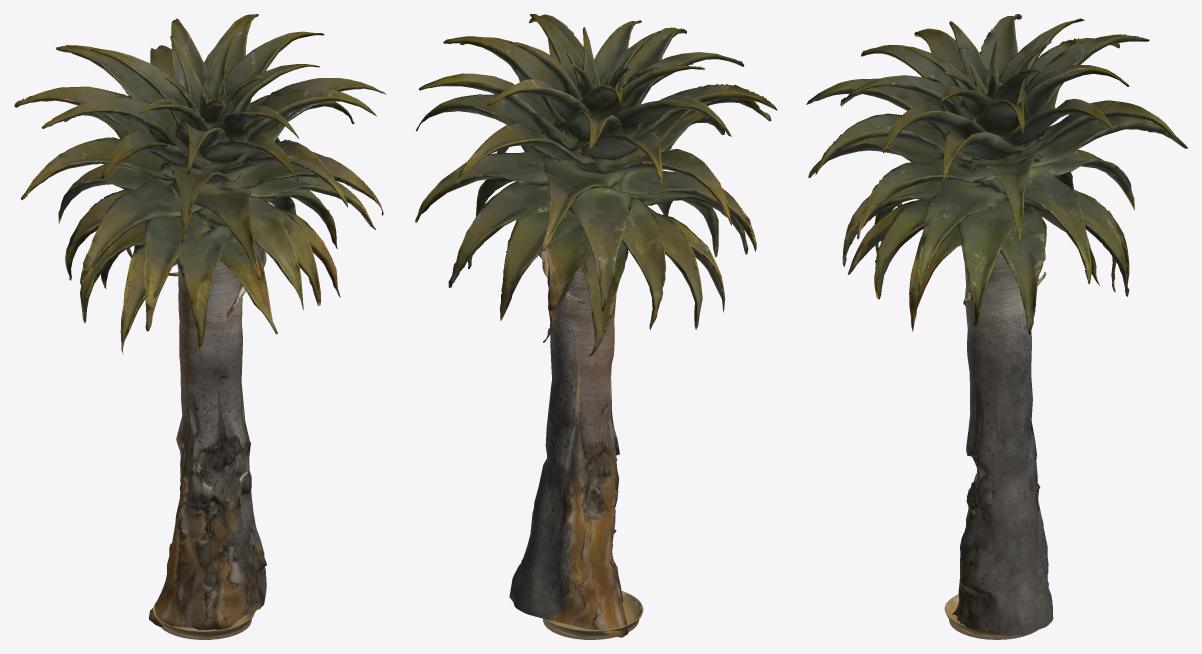
File: ph-quiver-tree.glb
The picture shows the model from 3 angles, left to right: view 1: azimuth 30°, elevation 25°; view 2: azimuth 150°, elevation 25°; view 3: azimuth 270°, elevation 25°; orthographic projection.
Parts seen in each view (by area): view 1: quiver_tree_02, Ecoforms_Plant_Container_S24NATURAL; view 2: quiver_tree_02, Ecoforms_Plant_Container_S24NATURAL; view 3: quiver_tree_02, Ecoforms_Plant_Container_S24NATURAL.
Boxes of the visible parts, x1,y1,x2,y2 form: quiver_tree_02: (14, 14, 386, 629); Ecoforms_Plant_Container_S24NATURAL: (153, 602, 255, 637); quiver_tree_02: (415, 14, 777, 637); Ecoforms_Plant_Container_S24NATURAL: (543, 591, 643, 637); quiver_tree_02: (806, 14, 1187, 635); Ecoforms_Plant_Container_S24NATURAL: (944, 594, 1015, 637).
Size of the model in its own units: 0.8716 by 1.47 by 0.8806.
3 materials, 2 textured.
